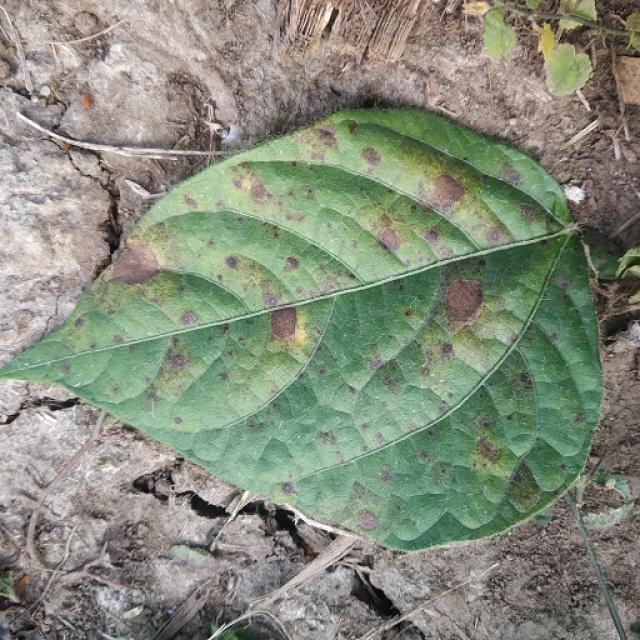Anthracnose: (438, 277, 487, 331), (106, 242, 161, 286), (502, 459, 541, 510), (430, 172, 467, 208), (269, 306, 299, 343), (473, 434, 502, 465), (375, 225, 403, 254), (246, 181, 272, 205), (359, 146, 382, 170), (356, 511, 379, 531), (178, 310, 199, 328), (424, 227, 442, 244), (183, 193, 199, 210), (283, 256, 299, 272), (224, 255, 239, 271), (280, 481, 296, 495), (347, 121, 358, 136), (173, 416, 183, 425), (404, 309, 413, 317)
Blackgram: (0, 111, 601, 549)
